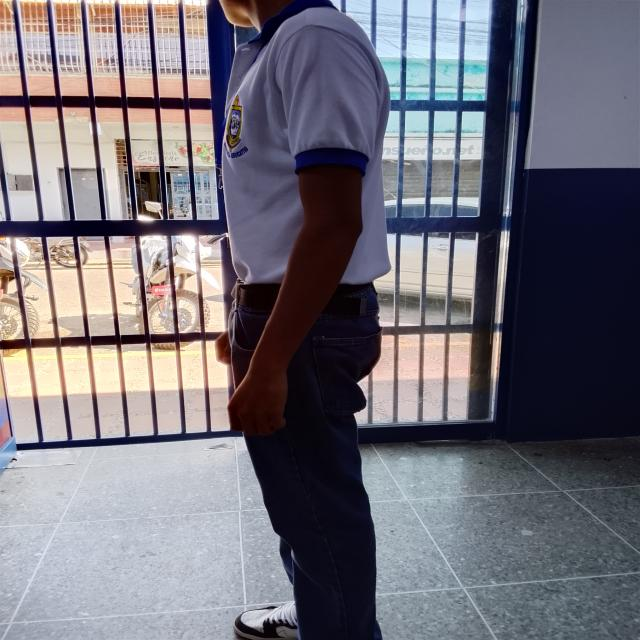uniforme_superior: (221, 0, 393, 285)
